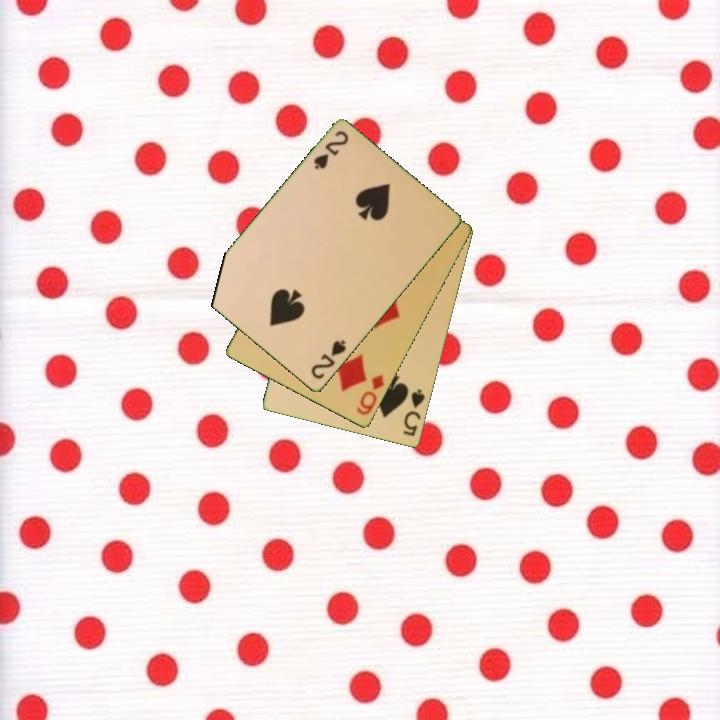2s: (307, 336, 349, 383), (310, 127, 352, 173)
5s: (400, 386, 428, 439)
6d: (353, 371, 387, 419)
